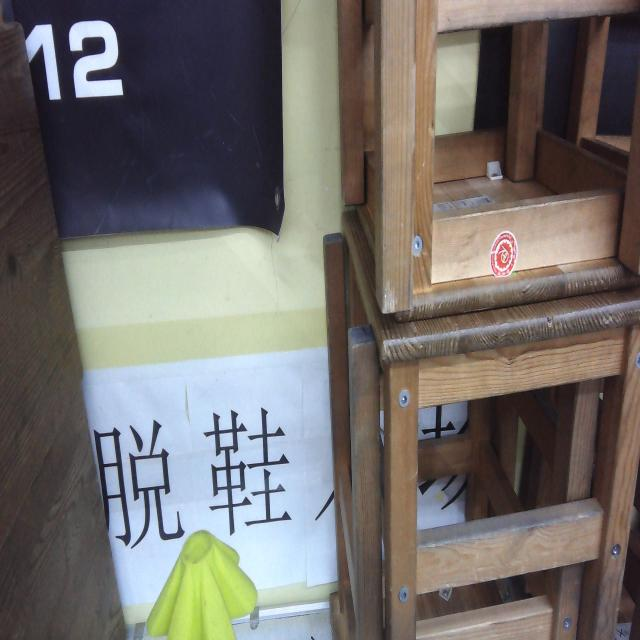Yellow-Stake-Head: (144, 530, 259, 640)
